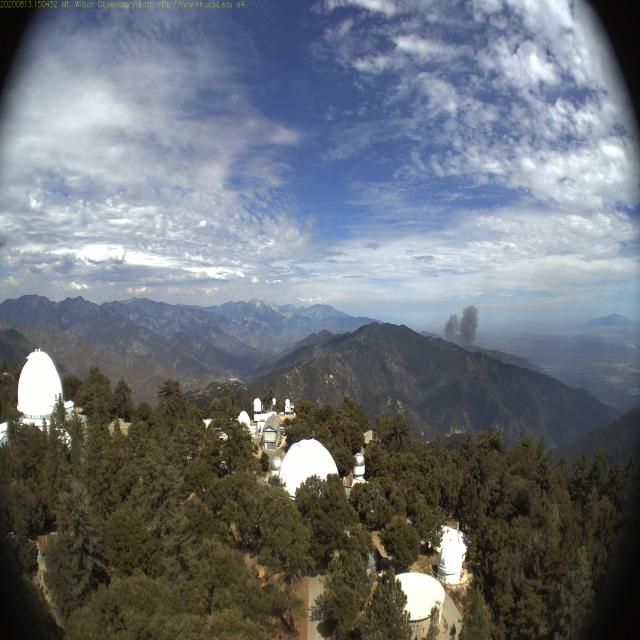smoke: (442, 292, 482, 354)
